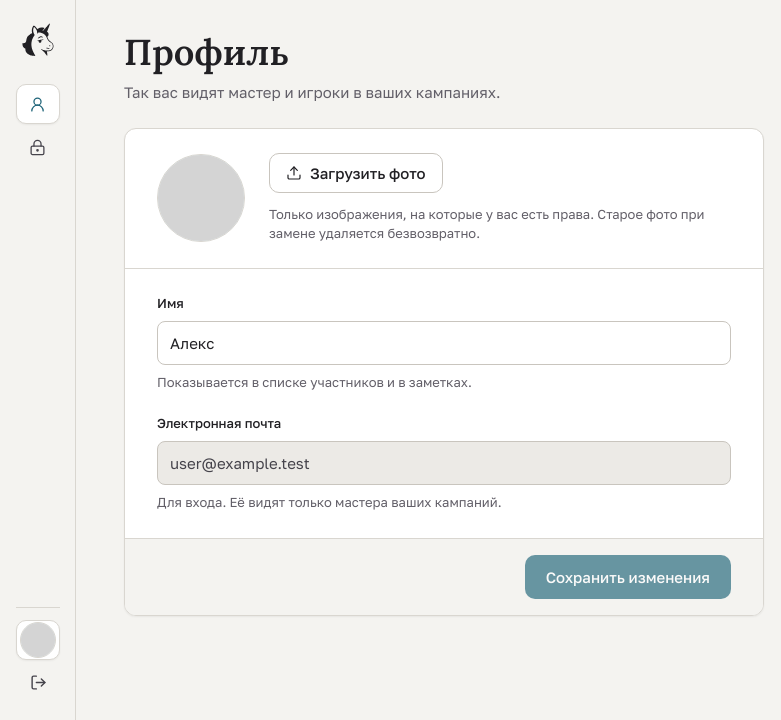
Test: AccountSettingsPage › shows the email read-only and saves a trimmed name
Expected: the field labelled "Электронная почта" is disabled, [157,441,731,485]
Replace the text in the field labelled "Имя" with "  Мира  " at coordinates (444, 343), box [157,321,731,365]
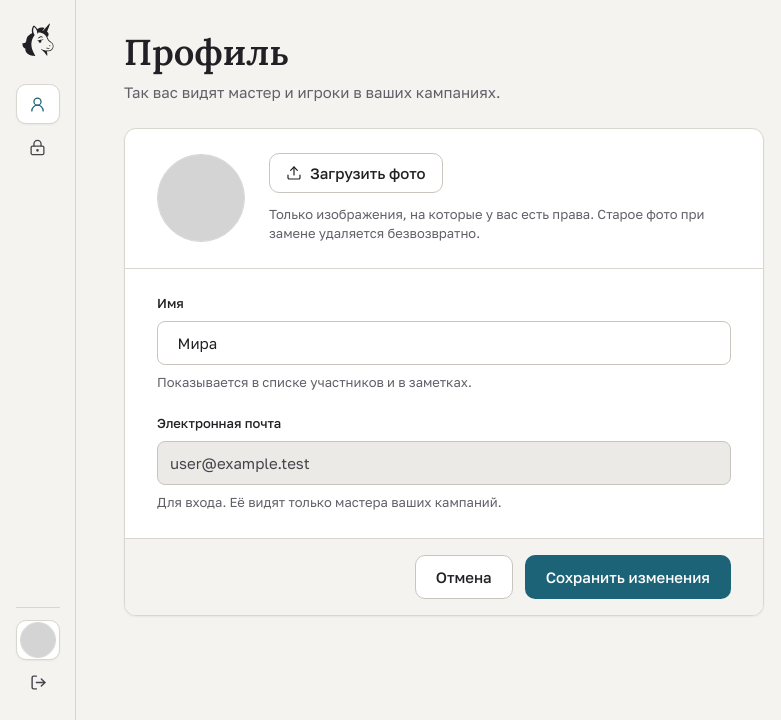
Click the button "Сохранить изменения" at coordinates (628, 577), box [525,555,731,599]
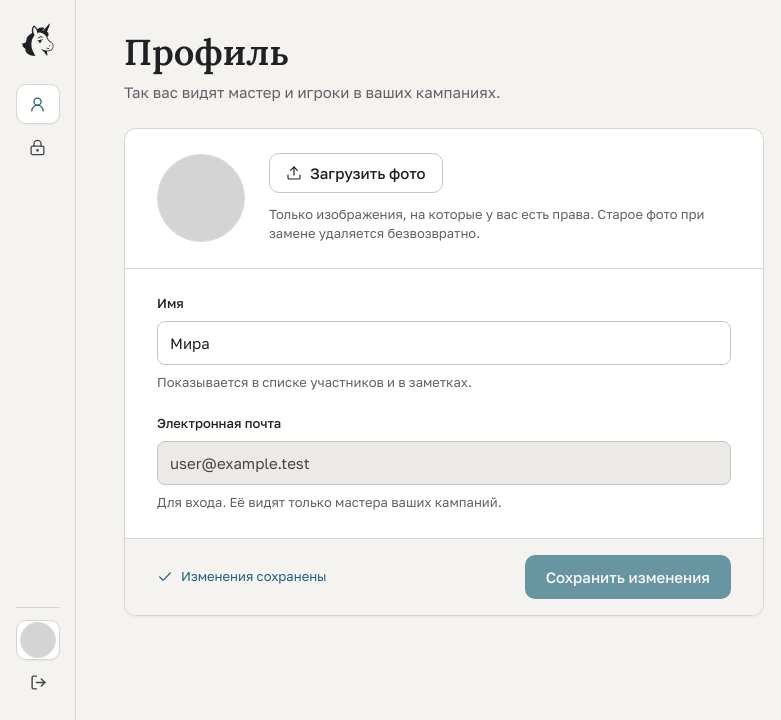
Result: the text "Изменения сохранены" is shown at [157,567,327,587]
